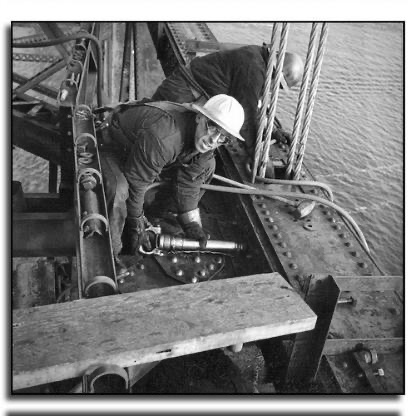Safety Helmet: (190, 87, 248, 165), (263, 44, 312, 100)
